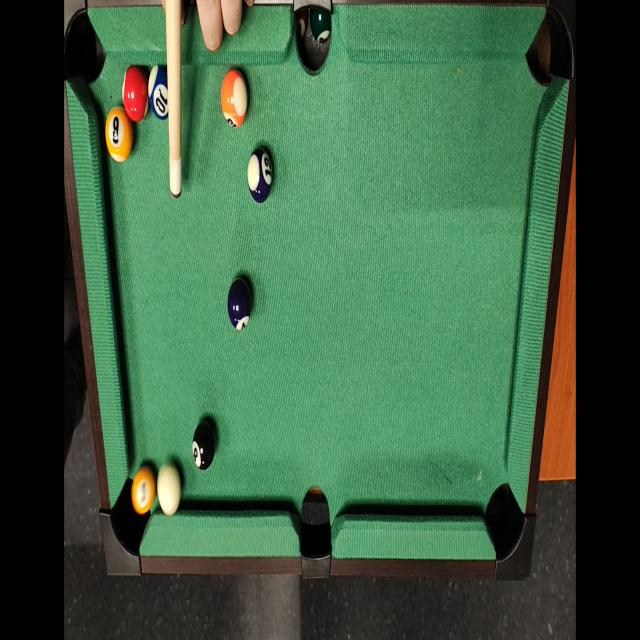cue ball: (156, 456, 184, 520)
other: (104, 102, 140, 173), (126, 462, 158, 530), (146, 57, 174, 125), (118, 60, 148, 123), (219, 69, 249, 128), (227, 272, 252, 334), (247, 148, 274, 205), (192, 415, 215, 469)
